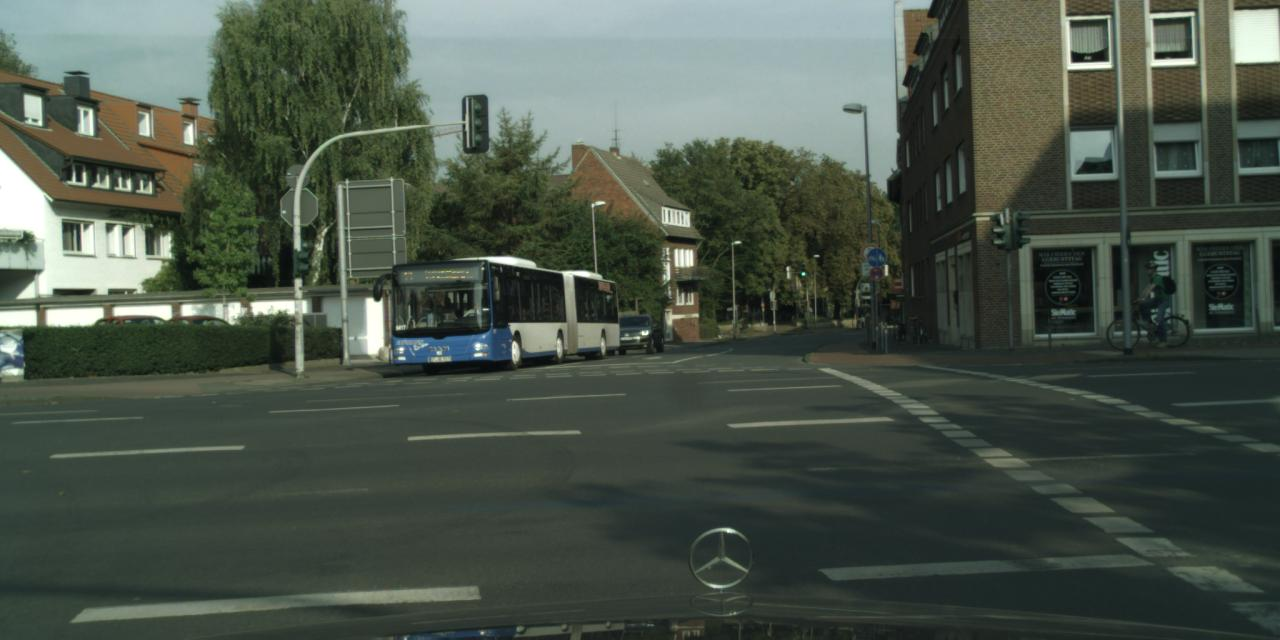ped: (1140, 262, 1168, 334), (864, 312, 870, 326), (860, 314, 864, 327)
